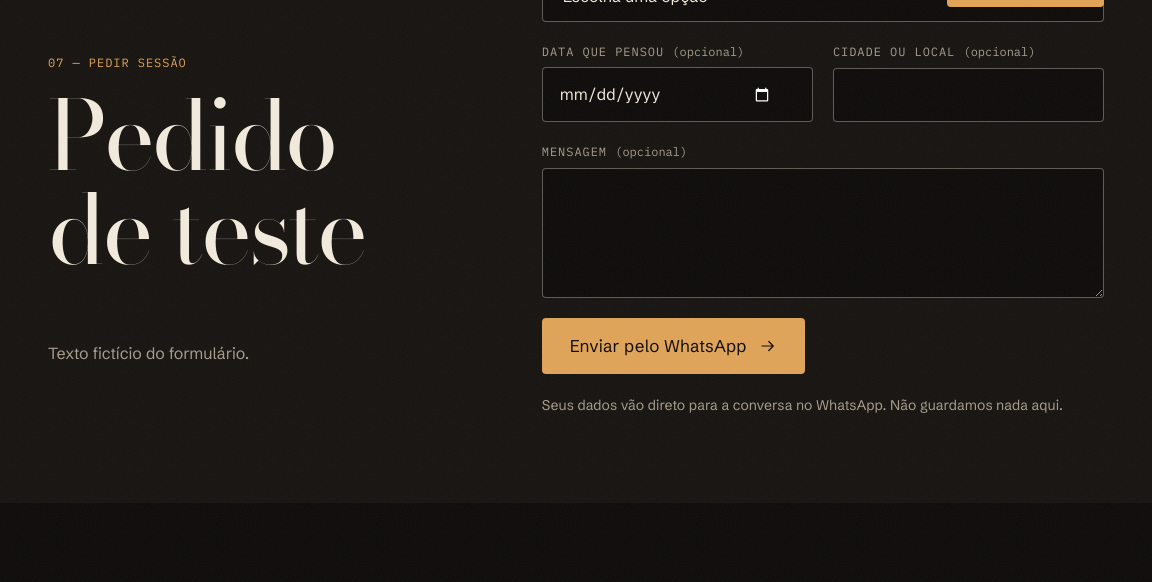
Test: formulário → WhatsApp › sem nome não envia: mostra o erro em texto e leva o foco ao campo
The image size is (1152, 582).
(page scrolled)
Click the button "Enviar pelo WhatsApp" at (673, 346), box [542, 318, 805, 374]
(page scrolled)
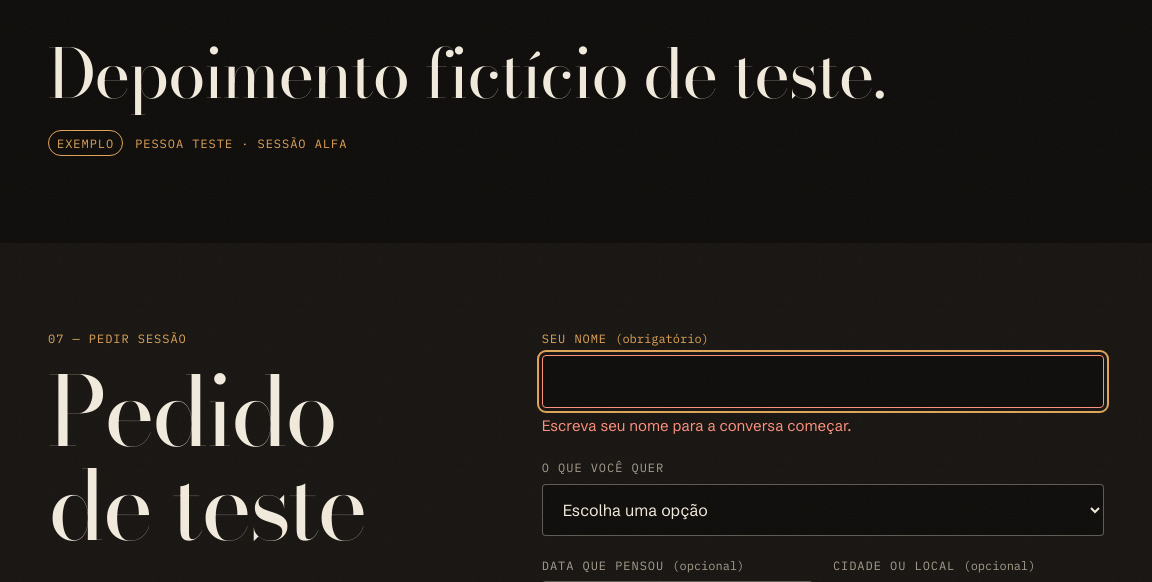
Check: the message shows "Escreva seu nome", box [542, 416, 852, 435]
